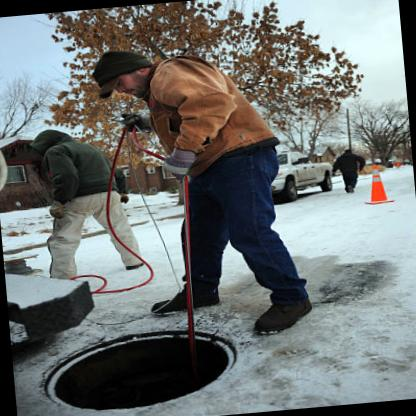manholes: (31, 314, 262, 416)
